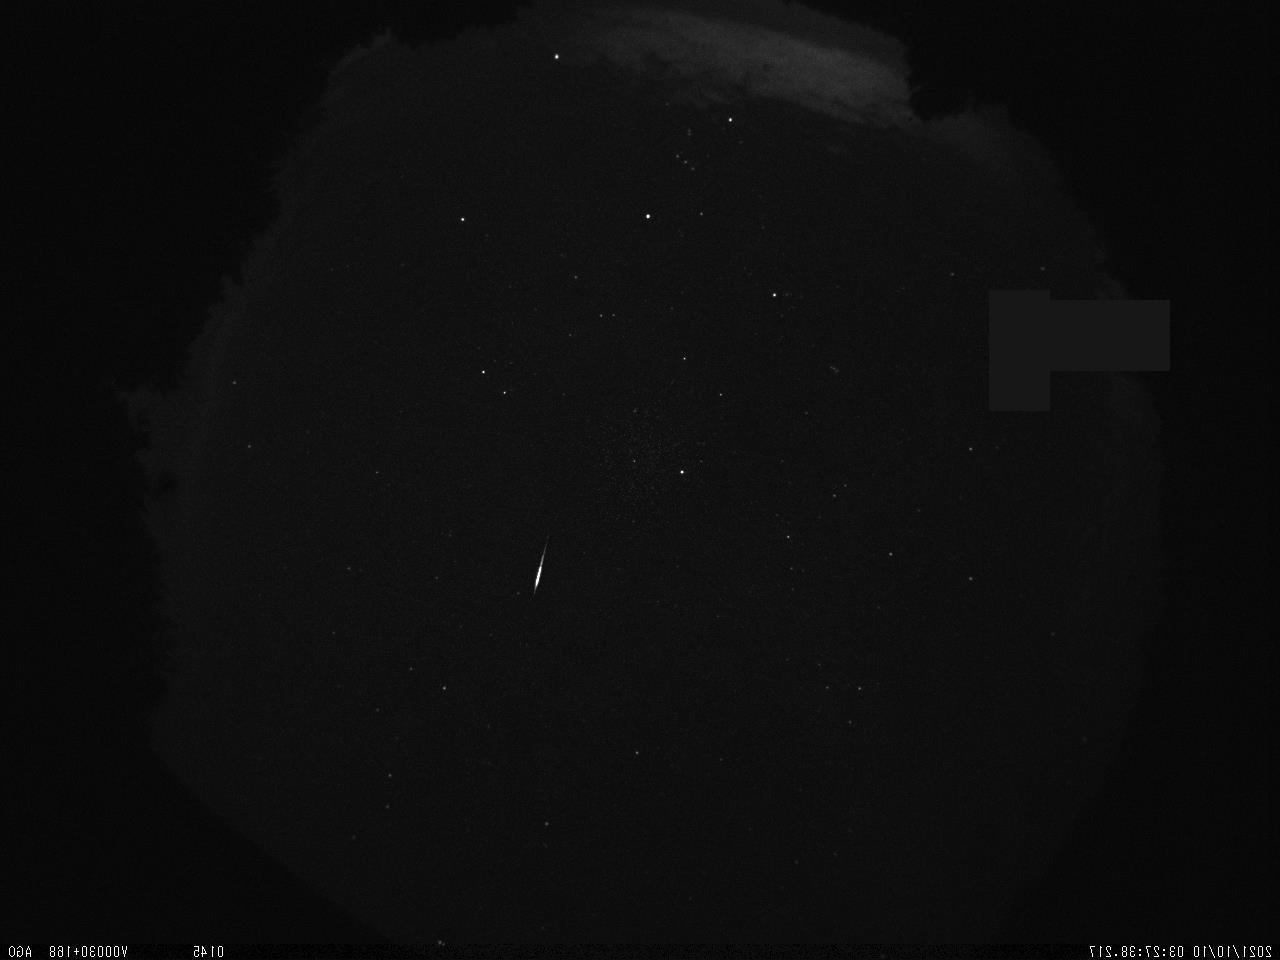meteor: (511, 517, 569, 612)
